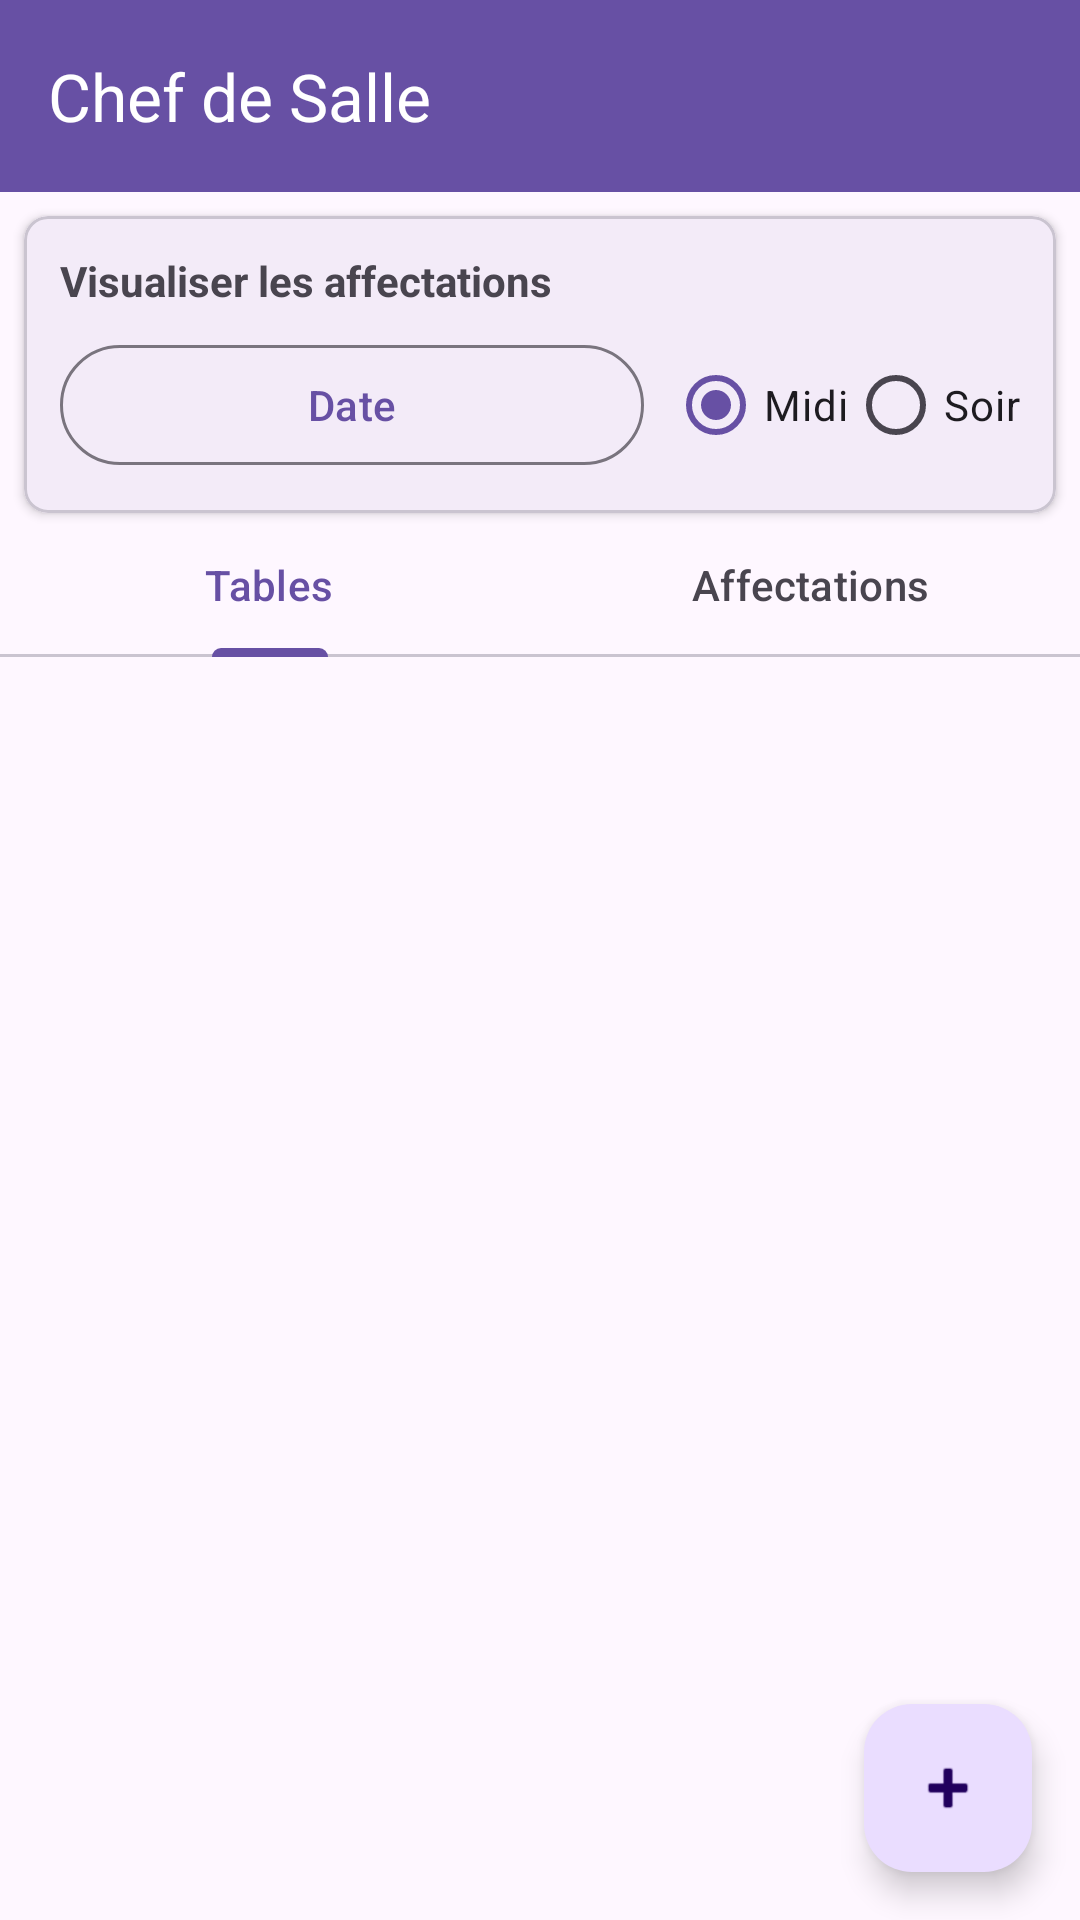

Named icons in this screenshot (1080 × 1920) and their centers, (x,y):
Ajouter une Table: (948,1788)
